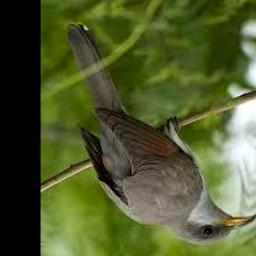Cuckoo: (67, 22, 255, 245)
